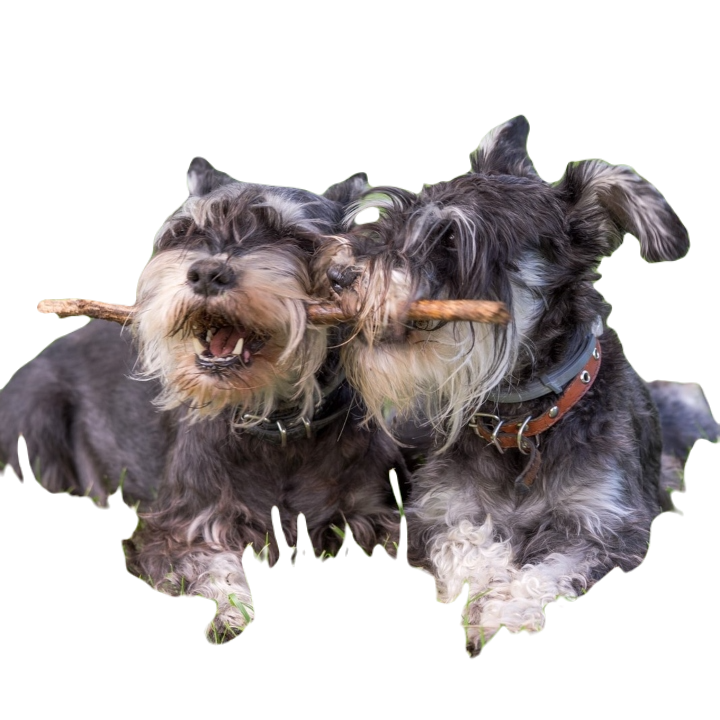Dog: (0, 119, 720, 660)
